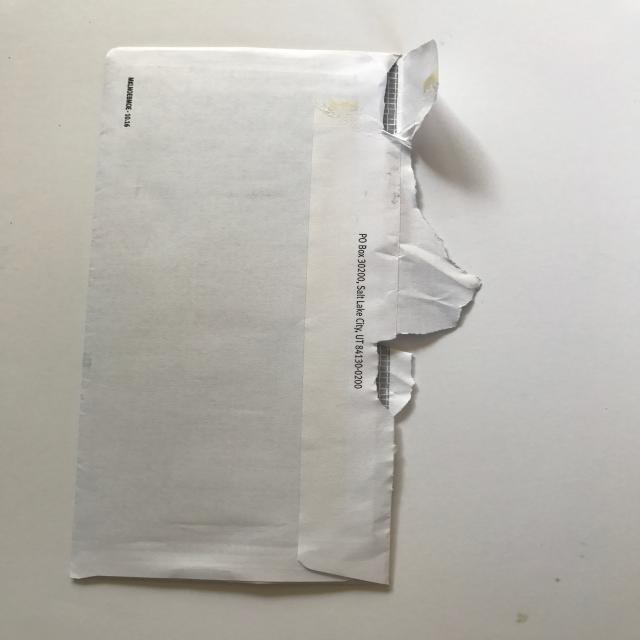paper: (65, 34, 489, 588)
